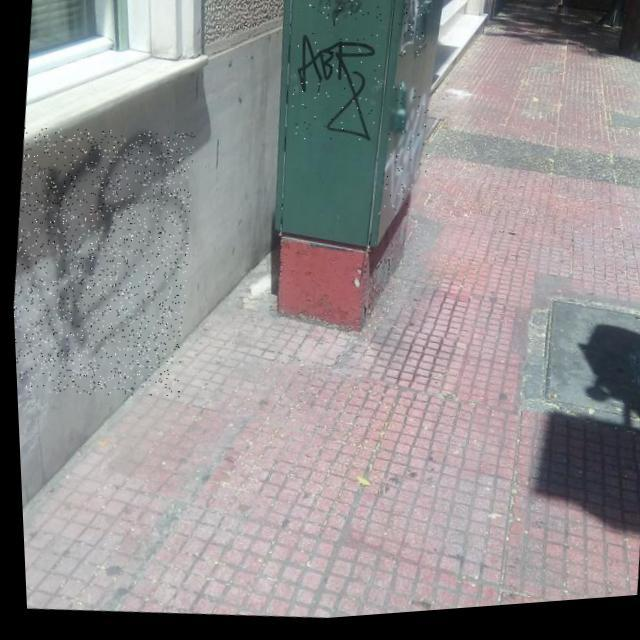-: (4, 117, 202, 408), (284, 32, 384, 152), (376, 86, 434, 222), (306, 0, 389, 31), (393, 0, 429, 65)
